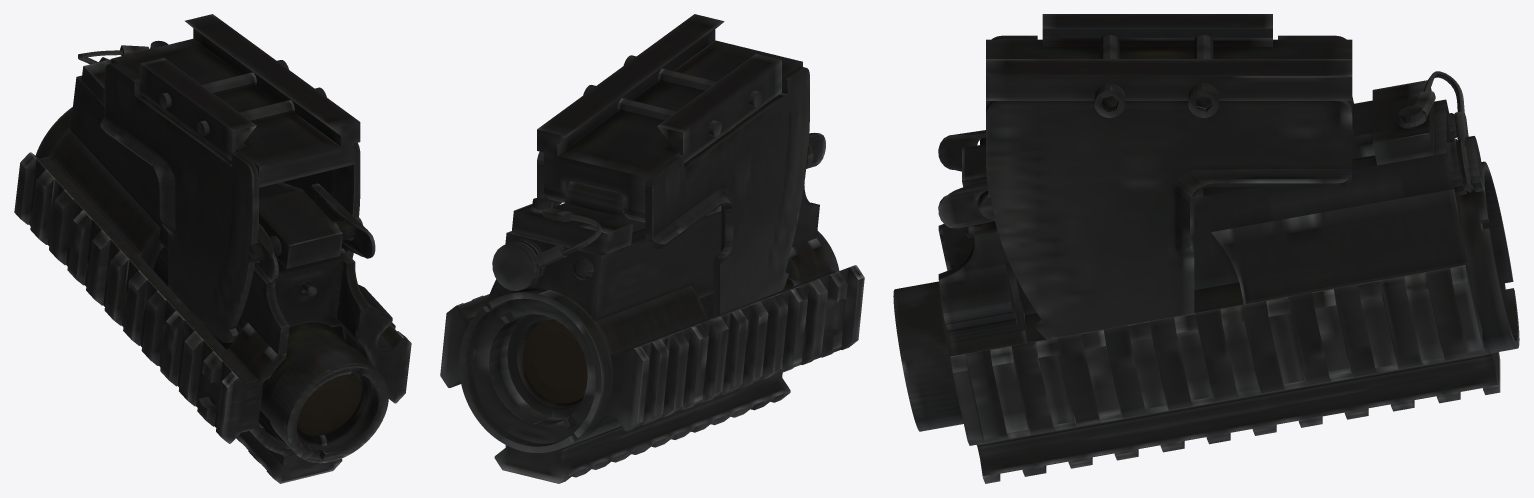
3 views of the same model, side by side, from view 1: azimuth 30°, elevation 25°; view 2: azimuth 150°, elevation 25°; view 3: azimuth 270°, elevation 25° (orthographic). The views are drawn at different scales.
Visible parts, largest first — view 1: TW_6284bd5f95250a29bc628a30_range200_PZ_Import; view 2: TW_6284bd5f95250a29bc628a30_range200_PZ_Import; view 3: TW_6284bd5f95250a29bc628a30_range200_PZ_Import.
Part boxes in pixels (x1,y1,x2,y2): TW_6284bd5f95250a29bc628a30_range200_PZ_Import: (14,14,411,483); TW_6284bd5f95250a29bc628a30_range200_PZ_Import: (440,14,864,483); TW_6284bd5f95250a29bc628a30_range200_PZ_Import: (893,14,1519,483).
Size of the model in its own units: 0.0322 by 0.0766 by 0.0573.
Materials: 1 (1 with a texture image).
